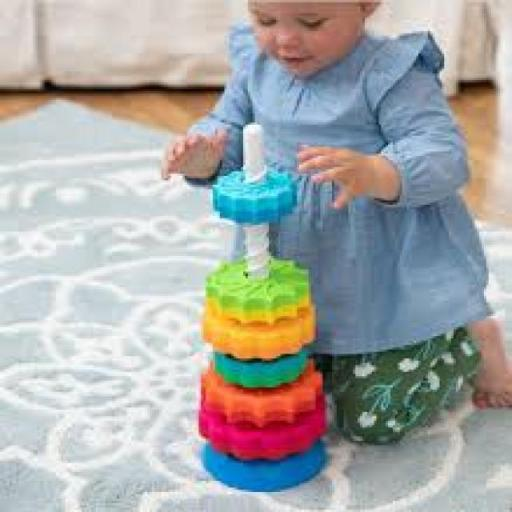baby: (222, 0, 511, 448)
